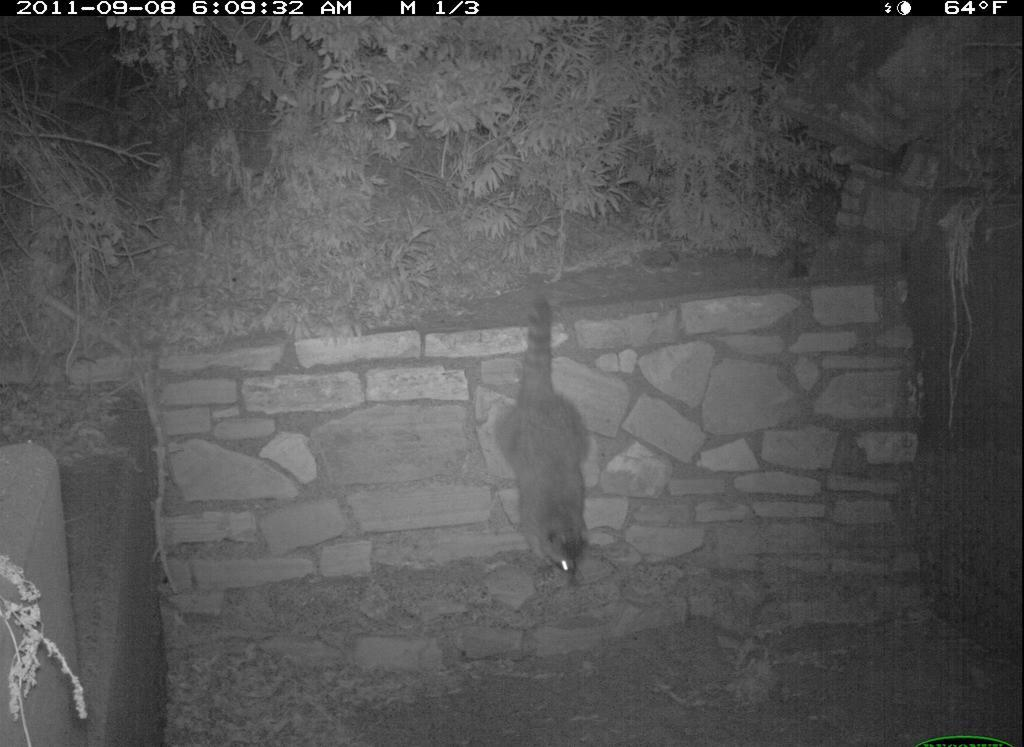raccoon: (486, 254, 615, 601)
